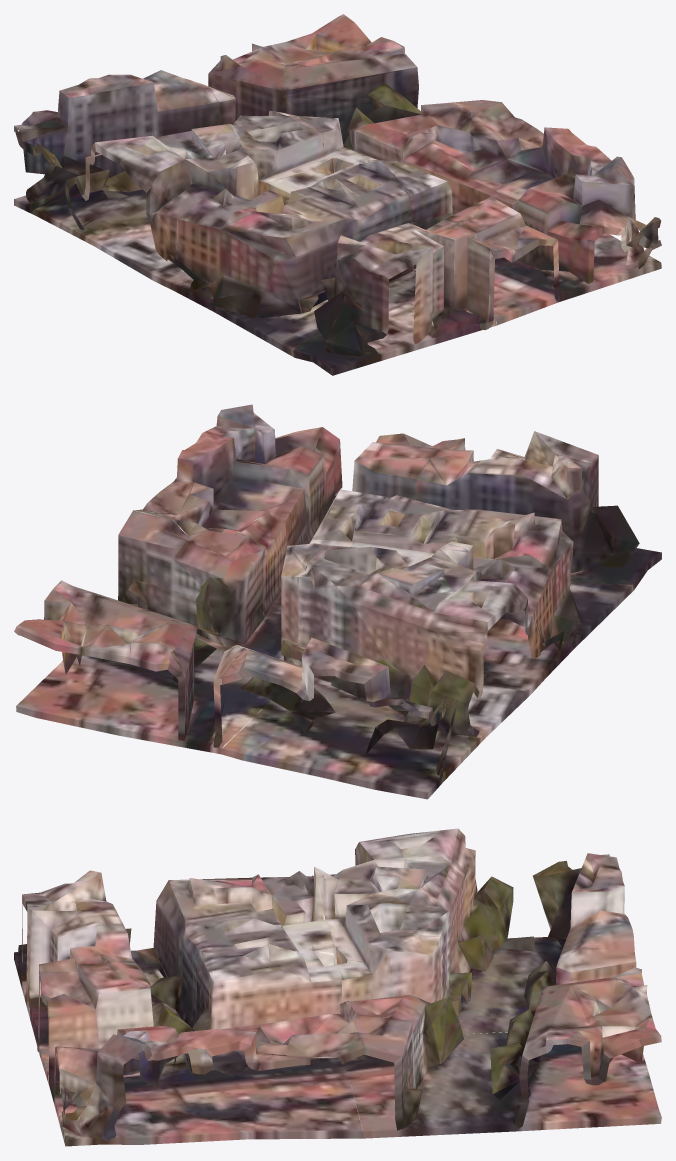
The picture shows the model from 3 angles, top to bottom: view 1: azimuth 30°, elevation 25°; view 2: azimuth 150°, elevation 25°; view 3: azimuth 270°, elevation 25°; orthographic projection. The views are drawn at different scales.
Visible parts, largest first — view 1: Mesh_0; view 2: Mesh_0; view 3: Mesh_0.
Boxes of the visible parts, box(x1,y1,x2,y2) form: Mesh_0: box(14, 14, 661, 375); Mesh_0: box(14, 404, 661, 799); Mesh_0: box(14, 828, 661, 1146).
Size of the model in its own units: 133 by 35.53 by 165.
Materials: 1 (1 with a texture image).
